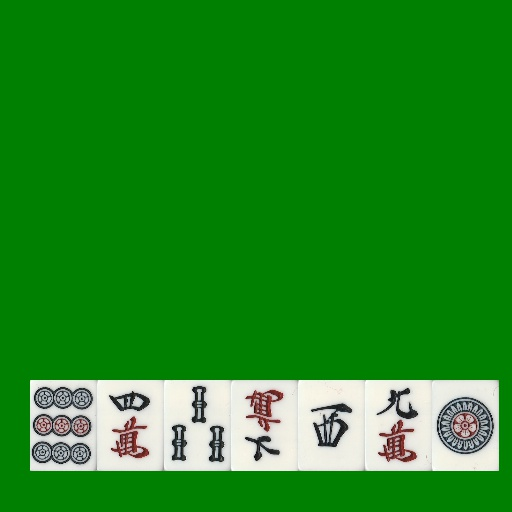1p: (432, 380, 499, 471)
3s: (164, 380, 231, 471)
4m: (97, 380, 164, 471)
7m: (231, 380, 298, 471)
9m: (365, 380, 432, 471)
9p: (30, 380, 97, 471)
west: (298, 380, 365, 471)
